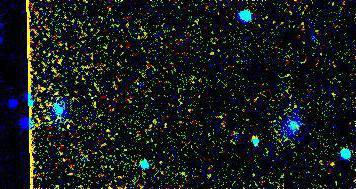star: (240, 124, 270, 154)
